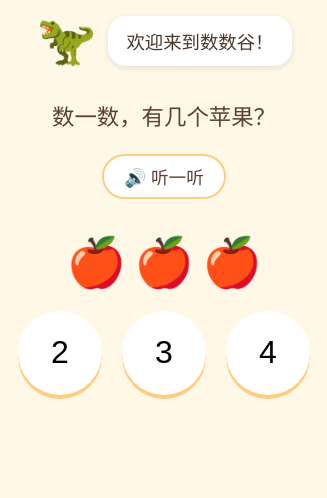
GameEngine › 答错不得星，可继续作答
The width and height of the screenshot is (327, 498).
Click the button "2". click: click(60, 353)
box: [18, 311, 102, 395]
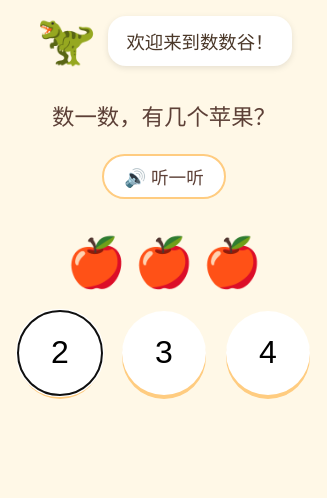
Click the button "3". click: click(164, 353)
box: [122, 311, 206, 395]
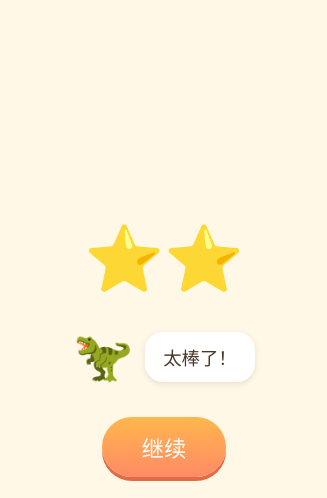
Expected: the text named "获得星星" is shown, [84, 222, 244, 296]
